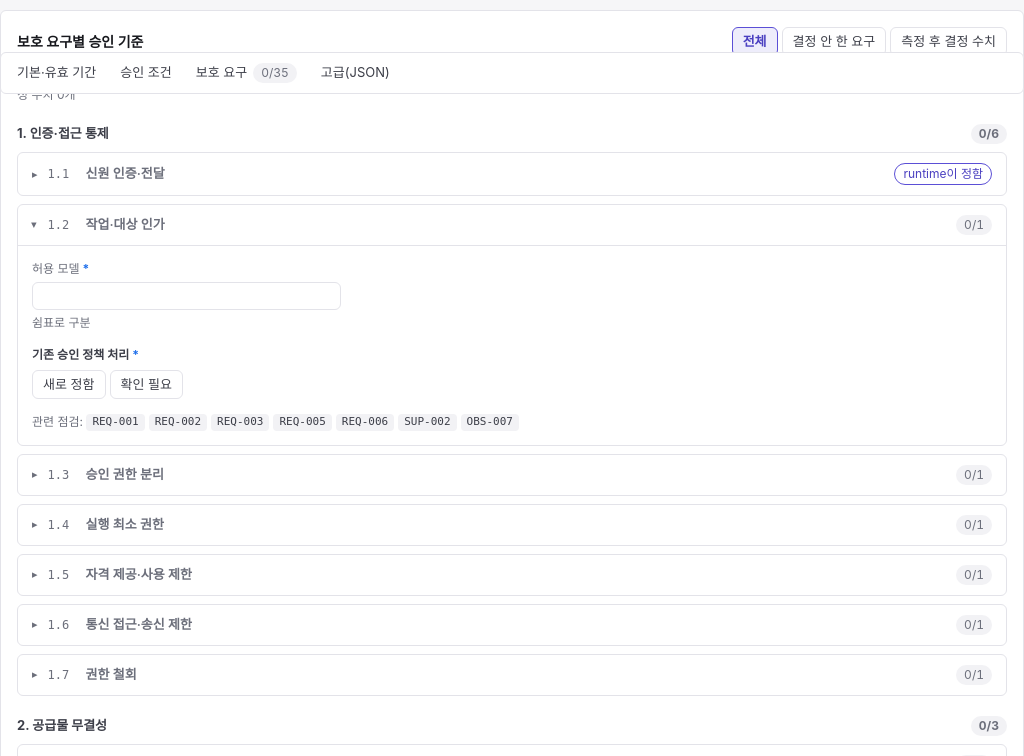
Scenario: policy form › shows detailed questions only after choosing change
(page scrolled)
Expected: the element "모델 사용 권한 단위" is not shown
What coordinates should you click on to do the following:
click the radio button labelled "새로 정함"
I would click on:
 (69, 384)
Its box is [32,370,106,399].
(page scrolled)
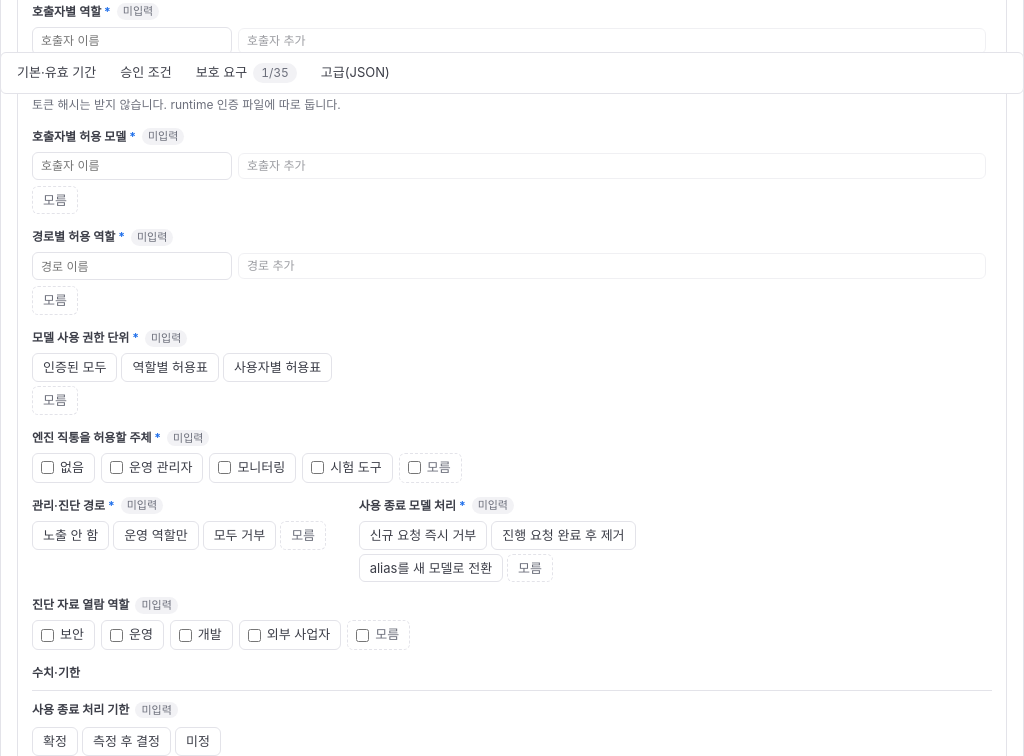
Expected: the element named "모델 사용 권한 단위" is shown, [32,353,339,415]
